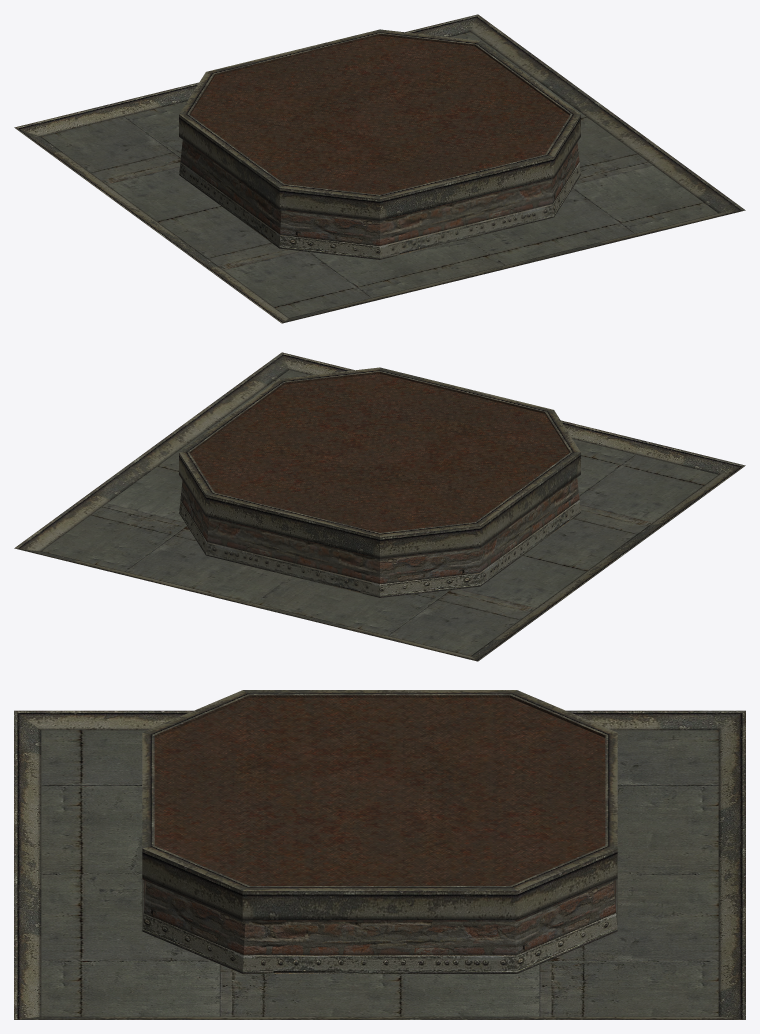
Rendered from structure_piece_rg_2.obj.
3 renders of one model, top to bottom at view 1: azimuth 30°, elevation 25°; view 2: azimuth 150°, elevation 25°; view 3: azimuth 270°, elevation 25°, orthographic. The views are drawn at different scales.
Parts seen in each view (by area): view 1: structure_piece_rg_2; view 2: structure_piece_rg_2; view 3: structure_piece_rg_2.
Boxes of the visible parts, x1,y1,x2,y2 form: structure_piece_rg_2: [14, 14, 745, 323]; structure_piece_rg_2: [14, 352, 745, 661]; structure_piece_rg_2: [14, 690, 745, 1019].
Bounding box in the file's own units: 8 × 1 × 8.
